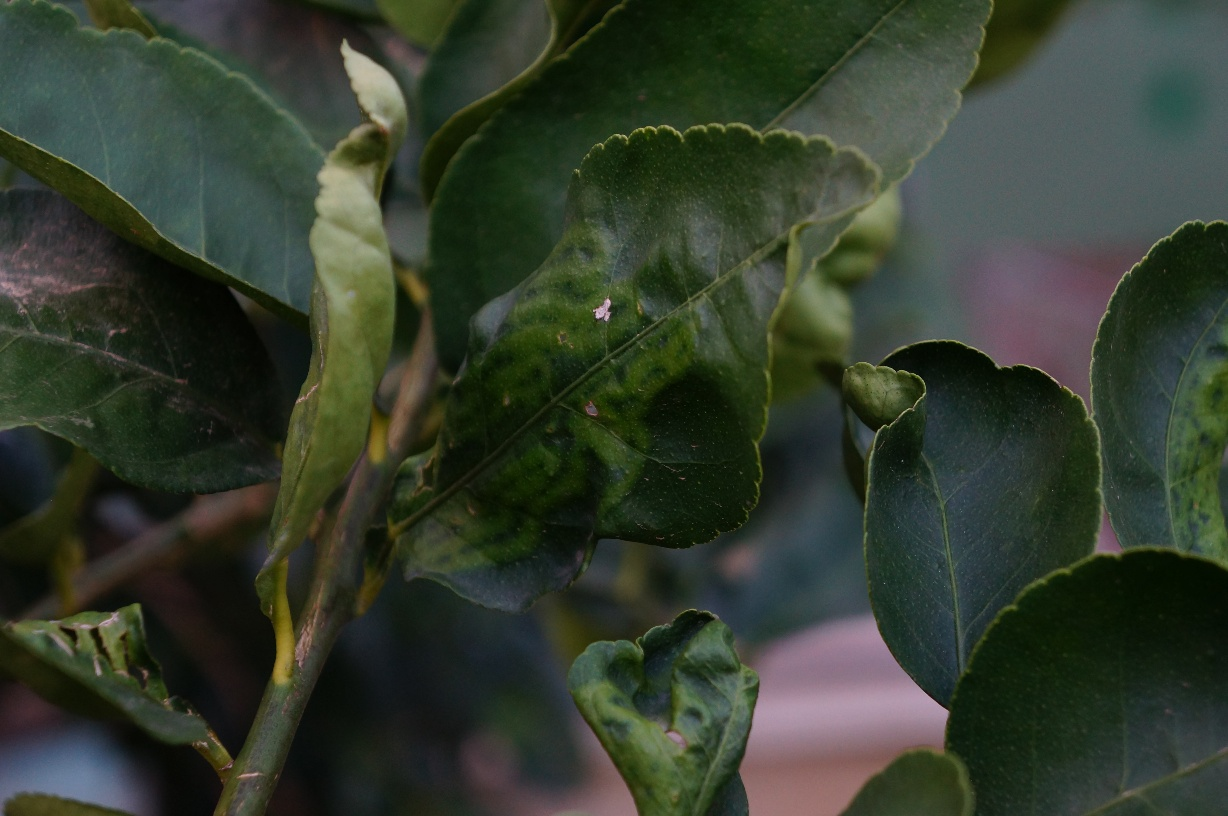damage: (558, 601, 768, 816), (1165, 305, 1228, 568)
